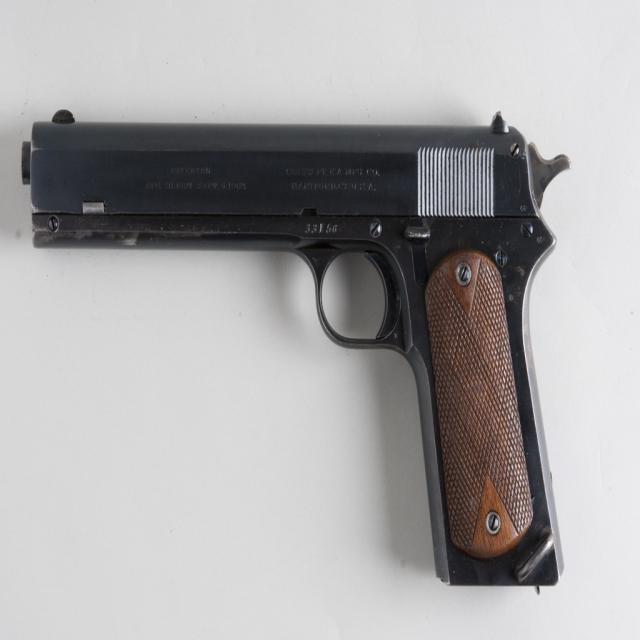Gun: (26, 112, 568, 589)
